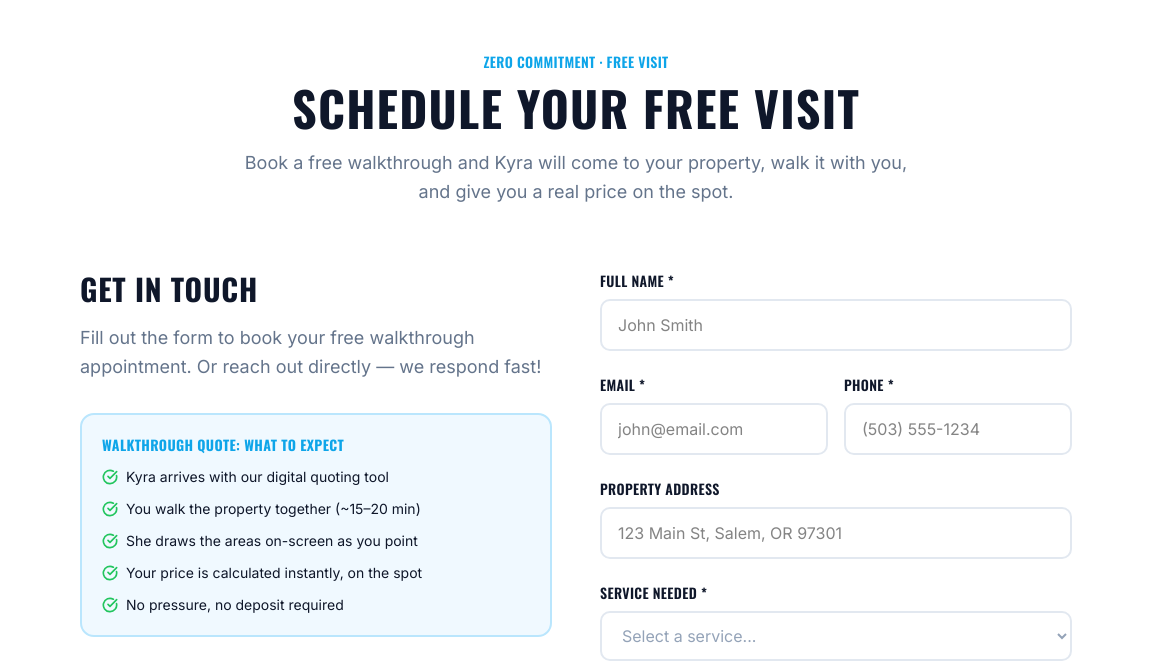
Test: ContactForm — HTTP status check (L3) › shows error on HTTP 500 even if body claims success
The image size is (1152, 669).
Type "Test User" into the field labelled "Full Name *". click: (836, 324)
box: x1=600 y1=298 x2=1072 y2=350
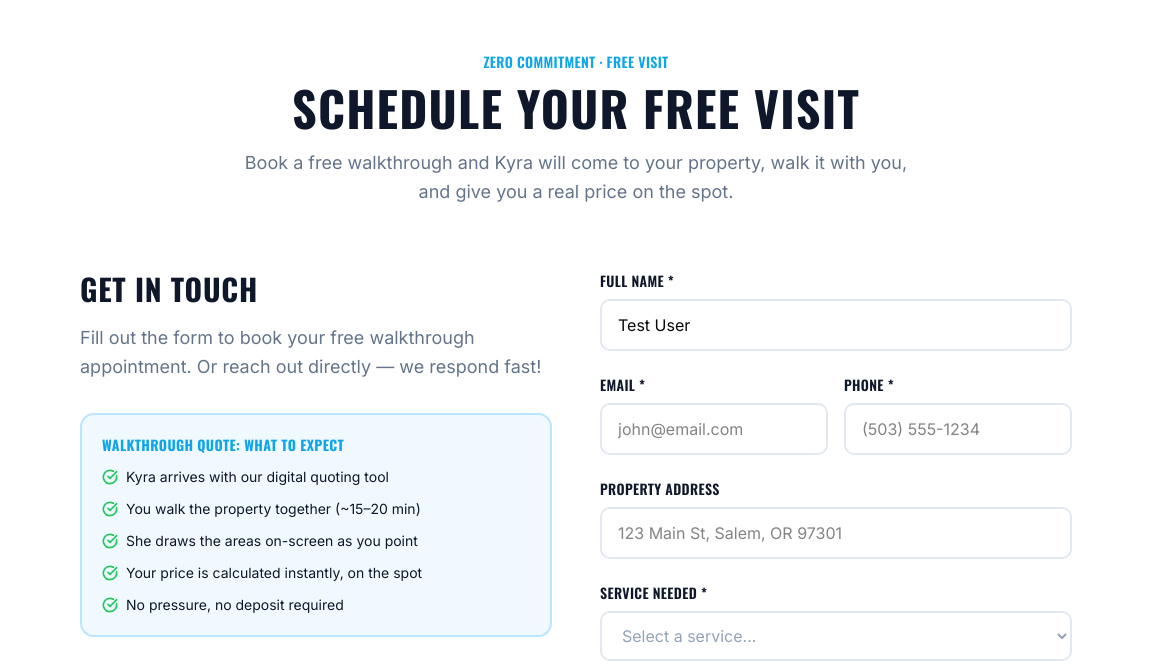
Type "test@example.com" into the field labelled "Email *". click: (714, 428)
box: x1=600 y1=402 x2=828 y2=454
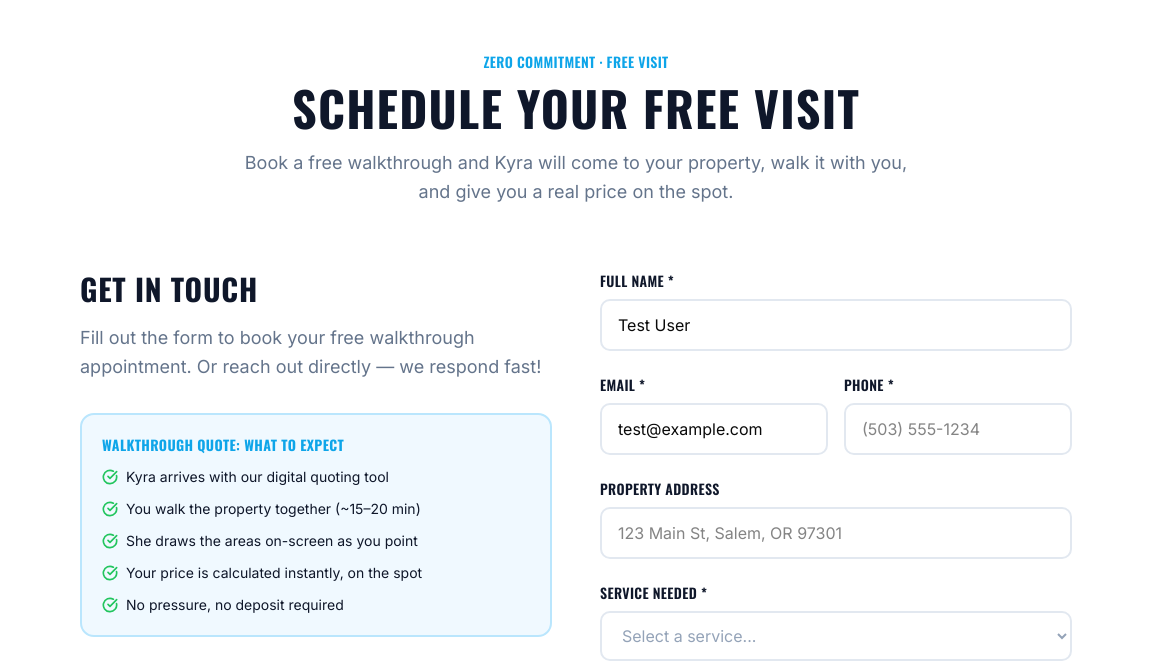
Type "5035551234" into the field labelled "Phone *". click: (958, 428)
box: x1=844 y1=402 x2=1072 y2=454
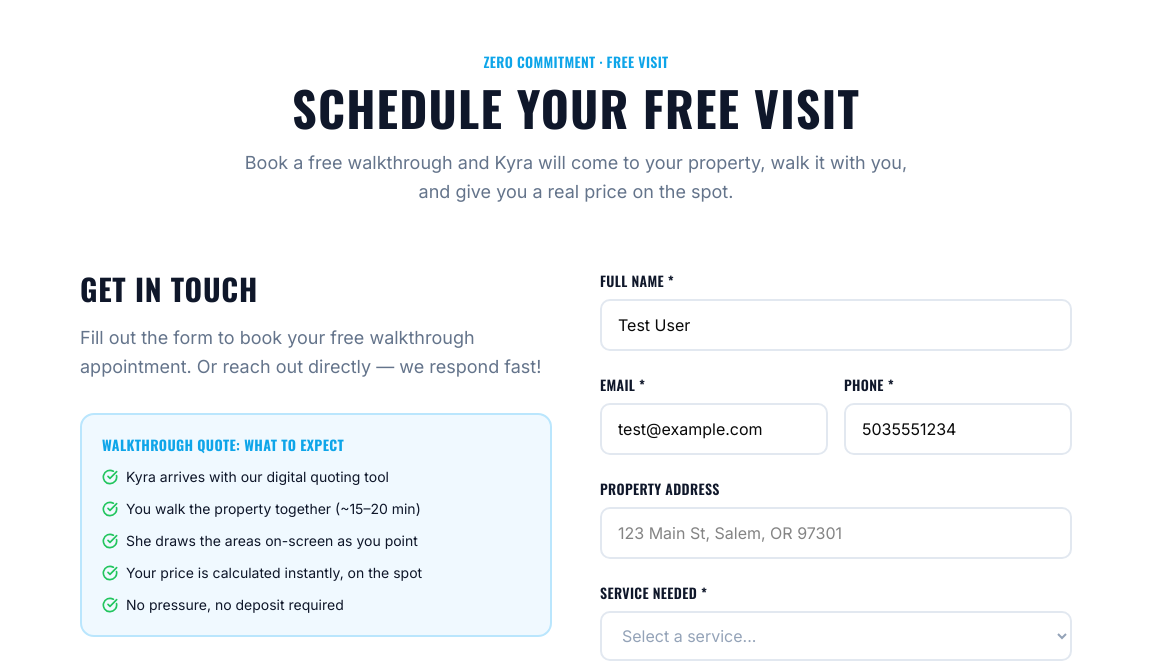
Select "Soft Washing (Siding)" in the dropdown labelled "Service Needed *". click: (836, 636)
box: x1=600 y1=610 x2=1072 y2=660
(page scrolled)
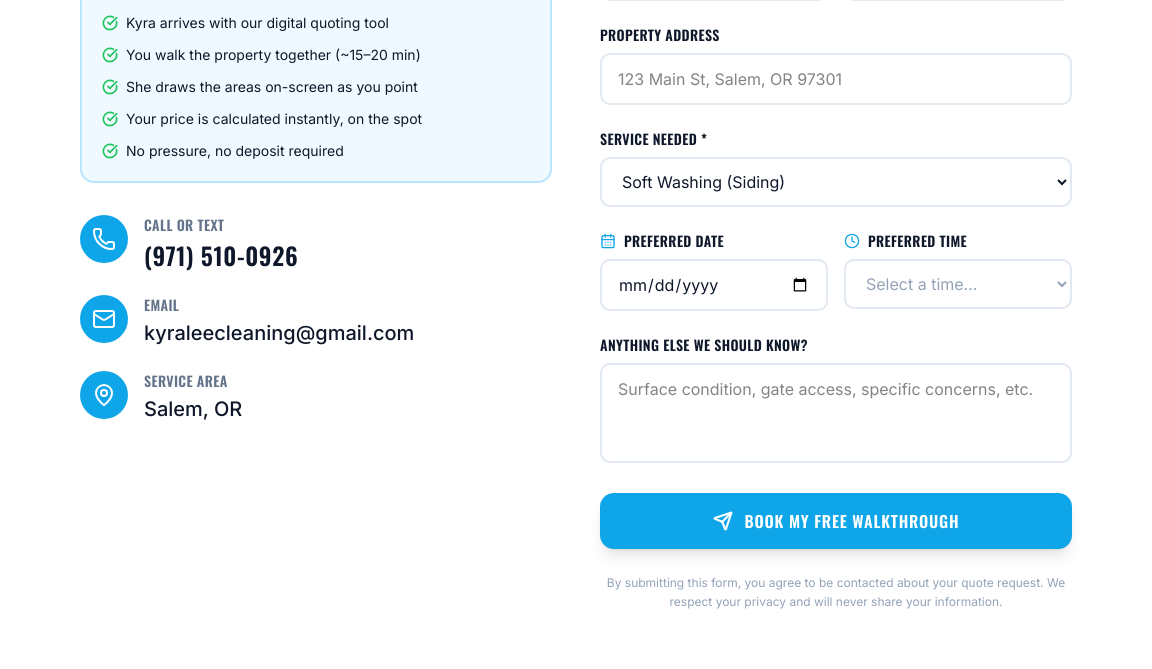
Click the button "Book My Free Walkthrough". click: (836, 520)
box: x1=600 y1=492 x2=1072 y2=548
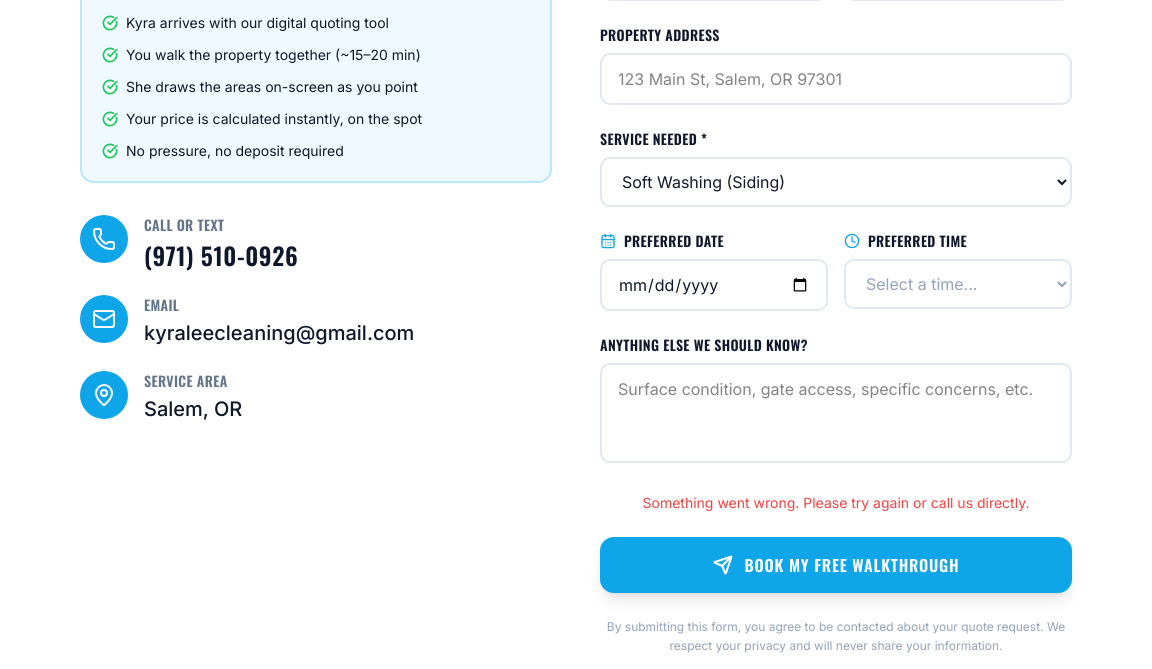
Check: the text "Something went wrong. Please try again or call us directly." is shown, box x1=642 y1=494 x2=1029 y2=510
